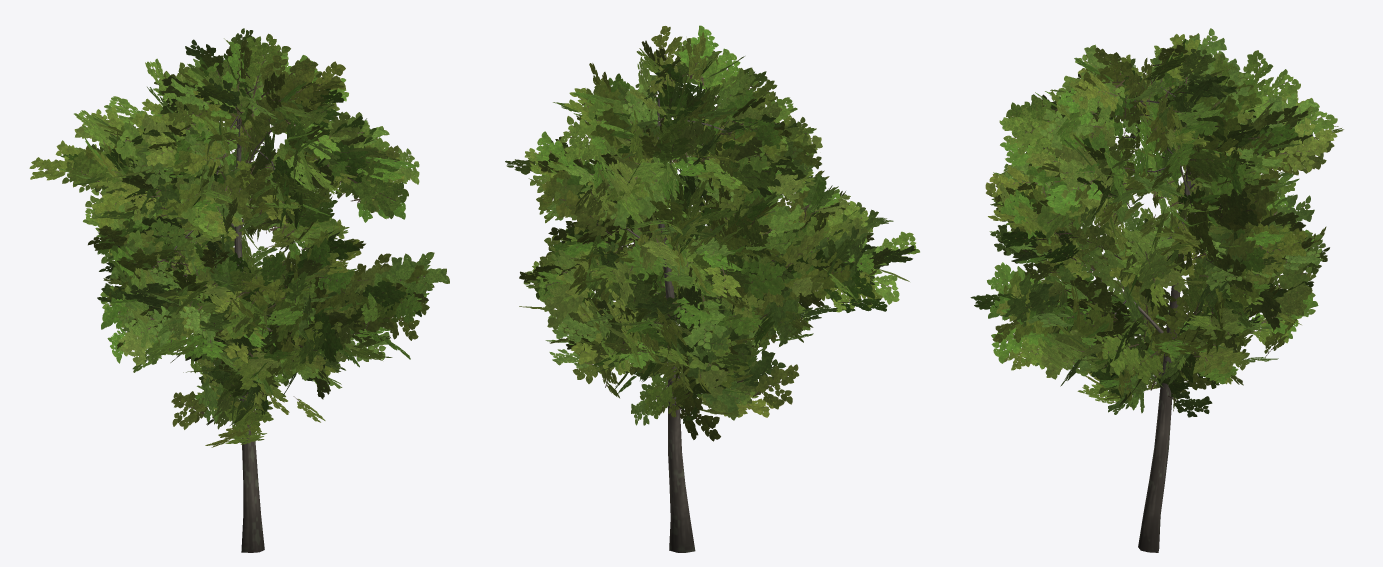
File: lipa_mlada.glb
The picture shows the model from 3 angles, left to right: view 1: azimuth 30°, elevation 25°; view 2: azimuth 150°, elevation 25°; view 3: azimuth 270°, elevation 25°; orthographic projection. The views are drawn at different scales.
Visible parts, largest first — view 1: lipa_mlada; view 2: lipa_mlada; view 3: lipa_mlada.
Boxes of the visible parts, left/top/right/bottom form: lipa_mlada: left=29, top=28, right=449, bottom=552; lipa_mlada: left=505, top=25, right=919, bottom=552; lipa_mlada: left=970, top=28, right=1343, bottom=552.
Bounding box in the file's own units: 5.98 × 7.89 × 5.47.
2 materials, 2 textured.
